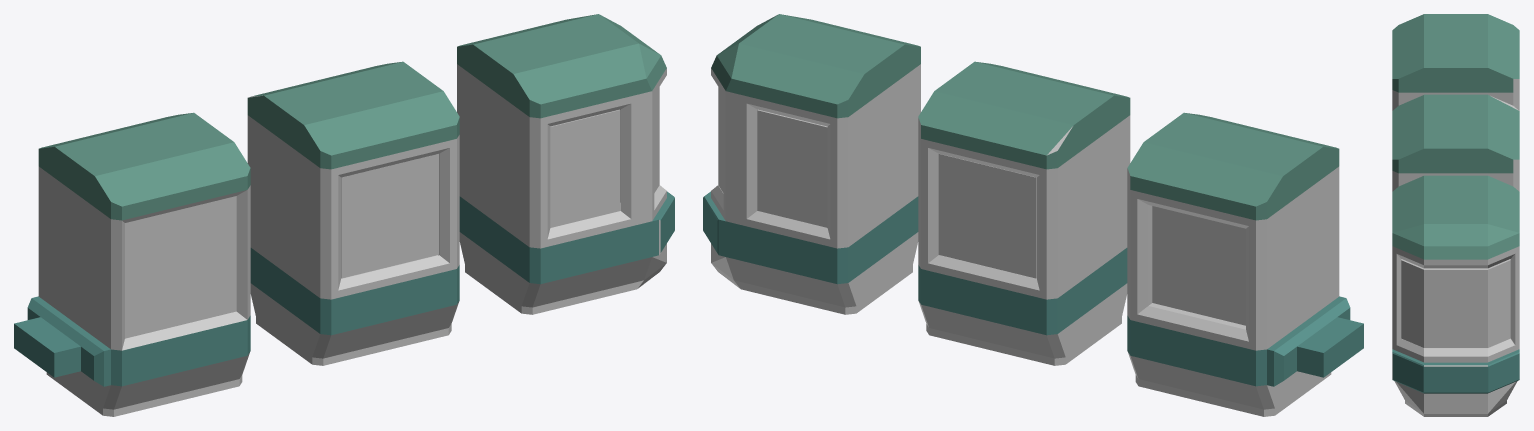
File: 3rdfix.fbx
The picture shows the model from 3 angles, left to right: view 1: azimuth 30°, elevation 25°; view 2: azimuth 150°, elevation 25°; view 3: azimuth 270°, elevation 25°; orthographic projection. The views are drawn at different scales.
Parts seen in each view (by area): view 1: body1, head, body2, winbl, winhr, winhf; view 2: body1, head, body2, winbr, winhl, winhf; view 3: head, body2, body1, winhf.
Boxes of the visible parts, left/top/right/bottom form: body1: left=14, top=112, right=250, bottom=416; head: left=457, top=14, right=674, bottom=314; body2: left=247, top=61, right=459, bottom=365; winbl: left=341, top=154, right=438, bottom=278; winhr: left=550, top=109, right=620, bottom=227; winhf: left=620, top=87, right=659, bottom=192; body1: left=1127, top=112, right=1363, bottom=416; head: left=703, top=14, right=920, bottom=314; body2: left=918, top=61, right=1130, bottom=365; winbr: left=938, top=154, right=1036, bottom=278; winhl: left=757, top=109, right=827, bottom=227; winhf: left=718, top=87, right=757, bottom=192; head: left=1392, top=175, right=1519, bottom=416; body2: left=1392, top=94, right=1519, bottom=191; body1: left=1392, top=14, right=1519, bottom=110; winhf: left=1401, top=259, right=1510, bottom=347.
Size of the model in its own units: 889 by 320 by 200.
